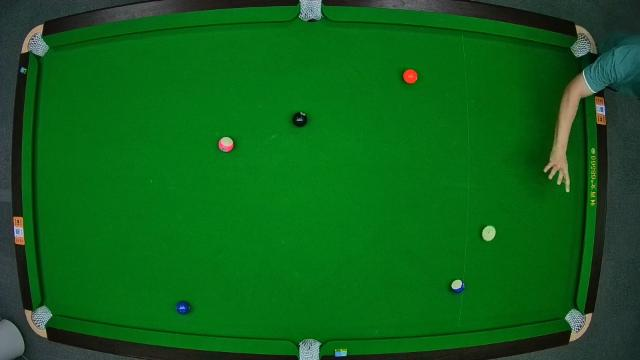bag1: (27, 34, 45, 56)
bag2: (299, 2, 323, 22)
bag3: (573, 35, 591, 55)
bag4: (32, 306, 52, 328)
bag5: (298, 340, 322, 360)
bag6: (565, 309, 585, 331)
ball0: (482, 226, 498, 242)
ball10: (450, 278, 466, 294)
ball12: (218, 137, 234, 155)
ball2: (175, 300, 192, 316)
ball5: (404, 68, 418, 84)
ball8: (292, 110, 308, 127)
